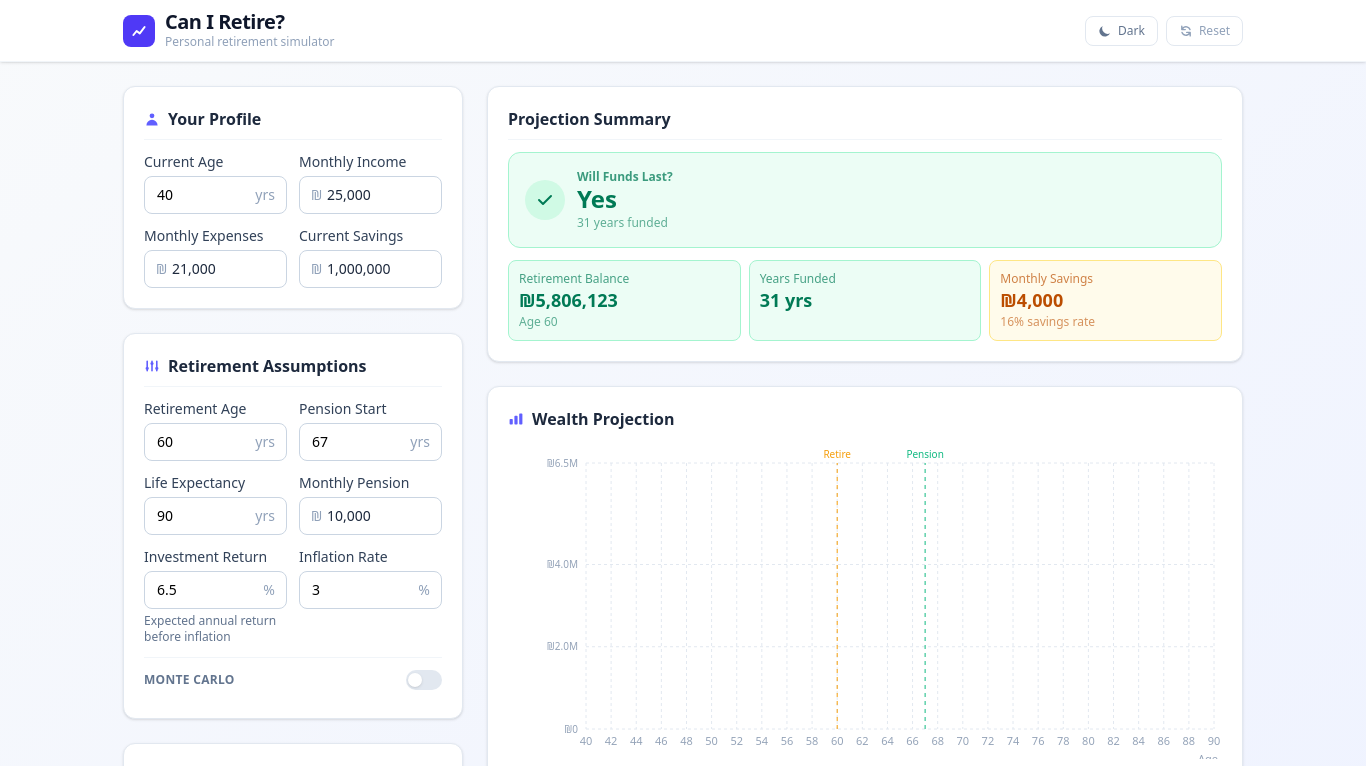
App › toggles dark mode when button is clicked
The width and height of the screenshot is (1366, 766).
Click the button with aria-label "switch to dark mode": (1121, 30) left=1085, top=16, right=1158, bottom=46
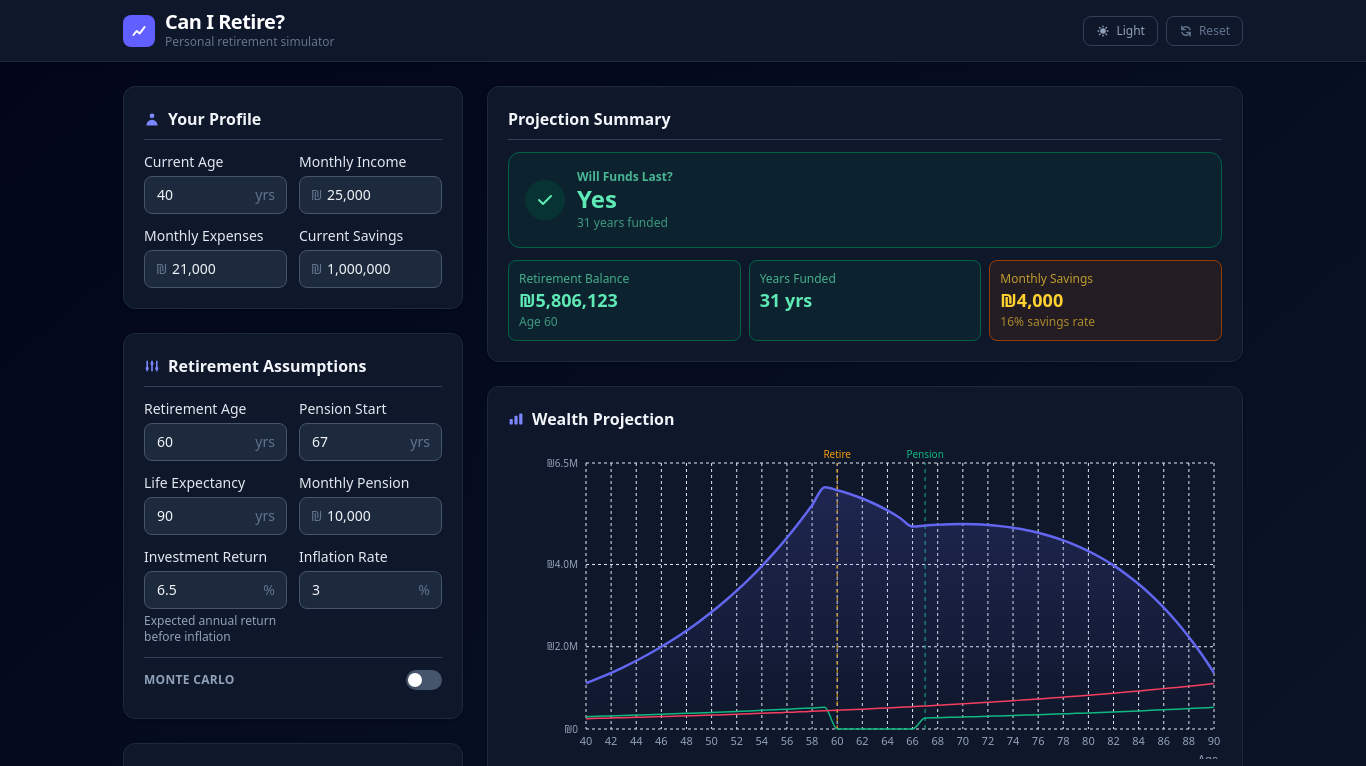
Result: the button with aria-label "switch to light mode" is shown at left=1083, top=16, right=1158, bottom=46
